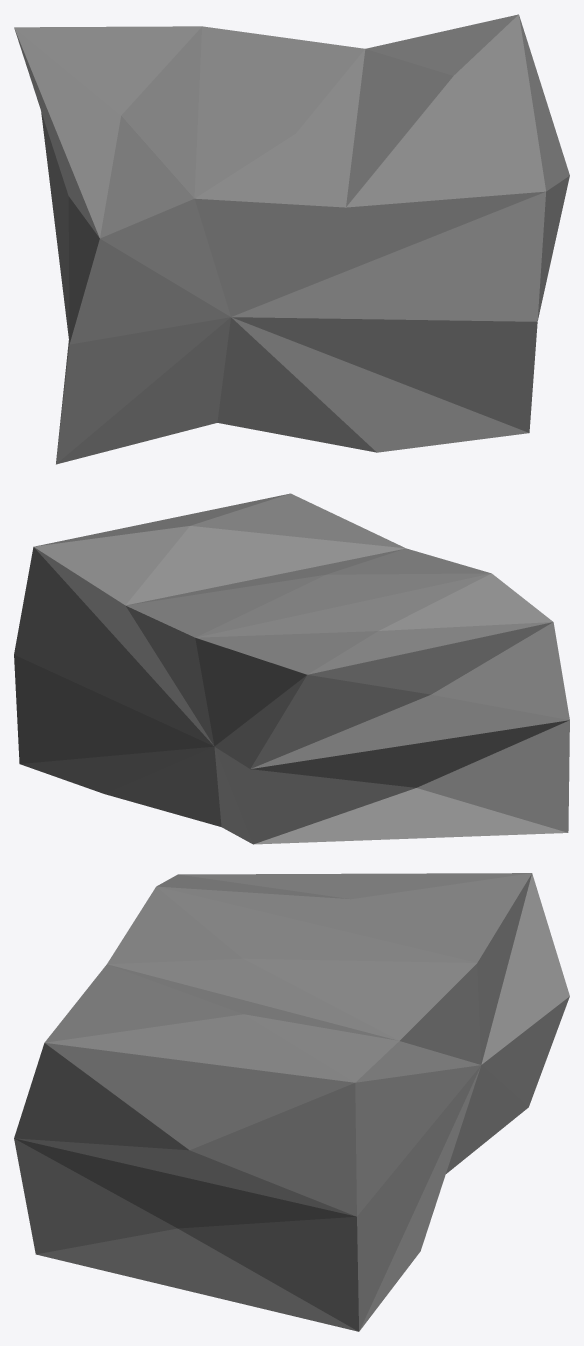
File: rock_03_b.fbx
3 views of the same model, one above another, from view 1: azimuth 30°, elevation 25°; view 2: azimuth 150°, elevation 25°; view 3: azimuth 270°, elevation 25° (orthographic). The views are drawn at different scales.
Visible parts, largest first — view 1: Rock_03_b; view 2: Rock_03_b; view 3: Rock_03_b.
Part boxes in pixels (box(x1,y1,x2,y2)): Rock_03_b: box(14, 14, 569, 464); Rock_03_b: box(14, 493, 569, 844); Rock_03_b: box(14, 873, 569, 1331).
Bounding box in the file's own units: 21.57 × 19.34 × 10.33.
